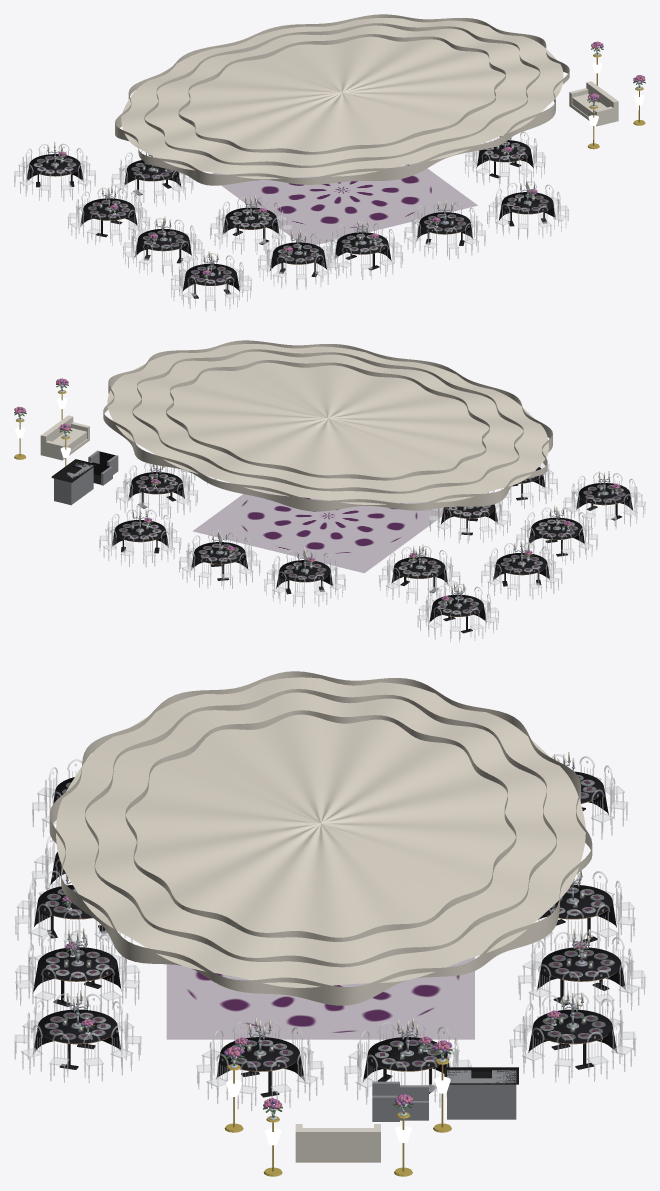
The model's file is SM_BaloSalonu_Kurulu.fbx.
3 renders of one model, top to bottom at view 1: azimuth 30°, elevation 25°; view 2: azimuth 150°, elevation 25°; view 3: azimuth 270°, elevation 25°, orthographic. The views are drawn at different scales.
Visible parts, largest first — view 1: K_Drape_Kanopi, K_PistVinil, K_Drape_Etek_0, K_Drape_Etek_1, K_Drape_Etek_2, K_Kanepe, K_Masa01_ortu, K_Masa12_ortu, K_Masa02_ortu, K_Masa06_ortu, K_Masa03_ortu, K_Masa05_ortu (+5 smaller); view 2: K_Drape_Kanopi, K_PistVinil, K_Drape_Etek_0, K_Drape_Etek_1, K_Drape_Etek_2, K_DJStand, K_Kanepe, Ball_Ornek_Ortu, K_Masa07_ortu, K_Masa05_ortu, K_Masa14_ortu, K_Masa09_ortu (+5 smaller); view 3: K_Drape_Kanopi, K_PistVinil, K_Drape_Etek_0, K_DJStand, K_Drape_Etek_1, K_Drape_Etek_2, K_Kanepe, K_Masa08_ortu, K_Masa11_ortu, K_Masa09_ortu, K_Masa12_ortu, K_Masa13_ortu (+7 smaller).
Boxes of the visible parts, x1,y1,x2,y2 form: K_Drape_Kanopi: (121, 18, 563, 179); K_PistVinil: (211, 163, 477, 244); K_Drape_Etek_0: (115, 14, 569, 185); K_Drape_Etek_1: (144, 23, 540, 167); K_Drape_Etek_2: (178, 34, 505, 154); K_Kanepe: (569, 81, 618, 126); K_Masa01_ortu: (182, 263, 239, 291); K_Masa12_ortu: (499, 192, 555, 220); K_Masa02_ortu: (269, 242, 326, 270); K_Masa06_ortu: (26, 154, 83, 181); K_Masa03_ortu: (134, 229, 191, 257); K_Masa05_ortu: (80, 198, 137, 226); K_Drape_Kanopi: (107, 344, 548, 504); K_PistVinil: (193, 494, 443, 573); K_Drape_Etek_0: (103, 340, 552, 511); K_Drape_Etek_1: (132, 349, 523, 493); K_Drape_Etek_2: (166, 360, 489, 480); K_DJStand: (51, 450, 118, 505); K_Kanepe: (40, 415, 89, 460); Ball_Ornek_Ortu: (391, 556, 447, 583); K_Masa07_ortu: (276, 560, 332, 588); K_Masa05_ortu: (493, 553, 549, 580); K_Masa14_ortu: (128, 472, 184, 500); K_Masa09_ortu: (112, 520, 168, 547); K_Drape_Kanopi: (56, 677, 585, 987); K_PistVinil: (166, 957, 474, 1039); K_Drape_Etek_0: (49, 671, 592, 1005); K_DJStand: (372, 1067, 518, 1121); K_Drape_Etek_1: (85, 689, 556, 967); K_Drape_Etek_2: (125, 710, 516, 941); K_Kanepe: (295, 1124, 380, 1162); K_Masa08_ortu: (537, 947, 625, 990); K_Masa11_ortu: (33, 947, 121, 992); K_Masa09_ortu: (528, 1009, 616, 1052); K_Masa12_ortu: (33, 1009, 120, 1054); K_Masa13_ortu: (216, 1037, 304, 1081).
Size of the model in its own units: 2210 by 389 by 1455.
22 materials, 1 textured.
